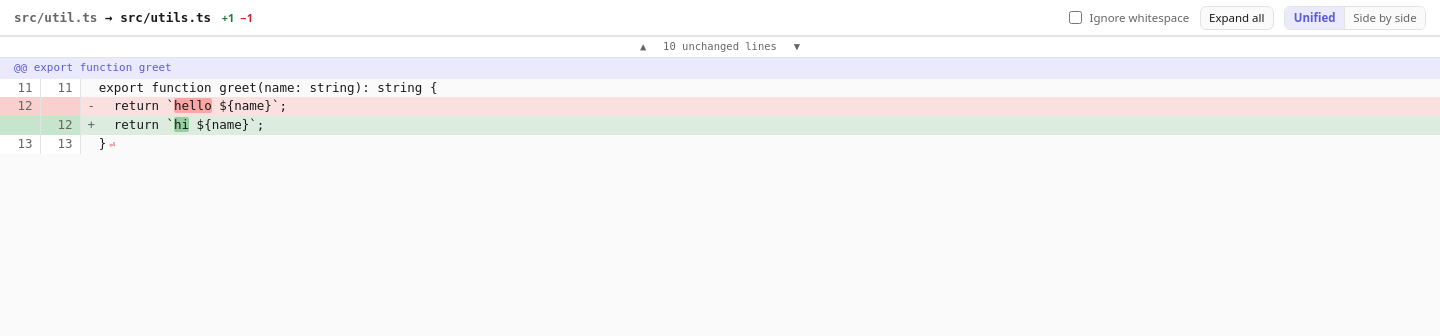
DiffView › expands gaps stepwise and fully
Expected: the table is shown, [0,36,1439,154]
Step 1. Click the button named "Expand down" → (797, 47), box [785,37,808,57]
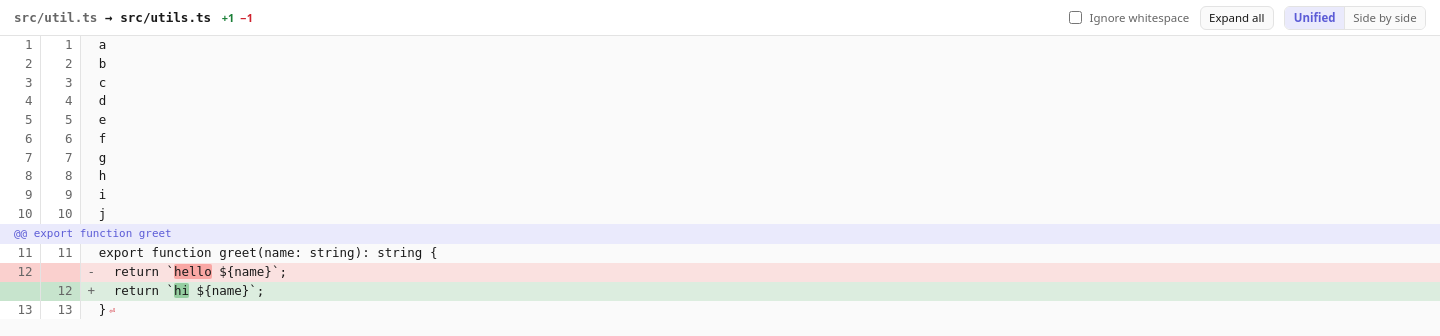
Expected: the button "unchanged lines" is gone
